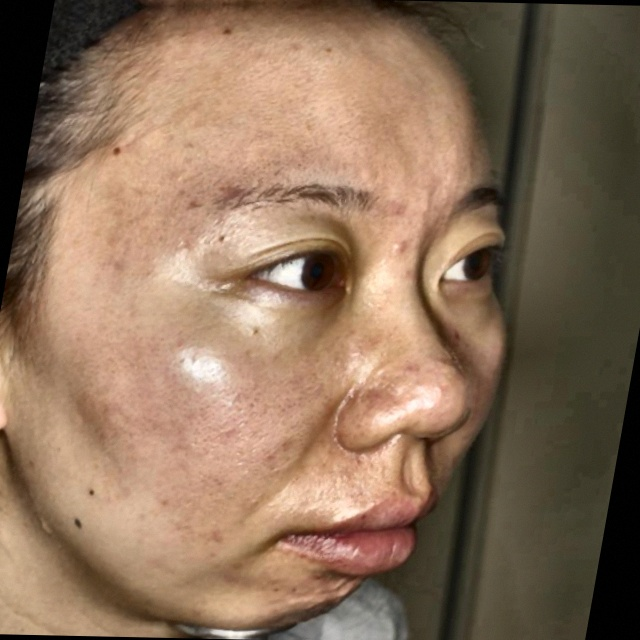comedone: (386, 233, 416, 260), (326, 577, 358, 599)
